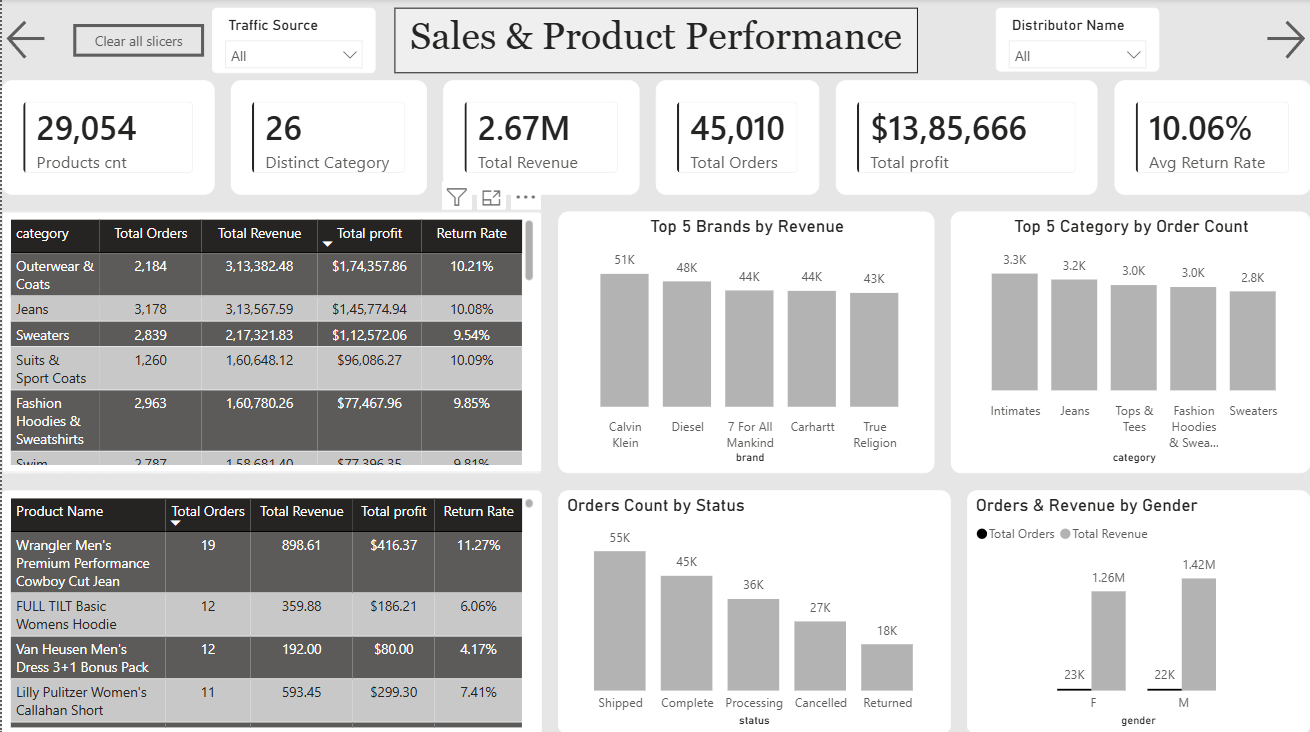

The page's visual inventory and layout, read from the dashboard file:
{"tool":"powerbi","page":{"name":"Sales & Product Performance ","canvas":[1280,720],"ordinal":2},"visuals":[{"type":"cardVisual","fields":{"Data":["Measure.Total Revenue"]},"box":[432,80,192,112],"z":0},{"type":"cardVisual","fields":{"Data":["Measure.Total profit"]},"box":[816,80,256,112],"z":1000},{"type":"cardVisual","fields":{"Data":["Stakeholder Overview Measure.Total Orders"]},"box":[640,80,160,112],"z":2000},{"type":"cardVisual","fields":{"Data":["Sales & Product Performance Overview.Distinct Category"]},"box":[224,80,192,112],"z":3000},{"type":"cardVisual","fields":{"Data":["Sales & Product Performance Overview.Products cnt"]},"box":[0,80,208,112],"z":4000},{"type":"cardVisual","fields":{"Data":["Stakeholder Overview Measure.Return Rate"]},"box":[1088,80,192,112],"z":5000},{"type":"tableEx","fields":{"Values":["public products.name","Stakeholder Overview Measure.Total Orders","Stakeholder Overview Measure.Total Revenue","Stakeholder Overview Measure.Total profit","Stakeholder Overview Measure.Return Rate"]},"box":[0,480,528,240],"z":6000},{"type":"textbox","box":[384,8,512,64],"z":7000},{"type":"tableEx","fields":{"Values":["public products.category","Stakeholder Overview Measure.Total Orders","Stakeholder Overview Measure.Total Revenue","Stakeholder Overview Measure.Total profit","Stakeholder Overview Measure.Return Rate"]},"box":[0,208,528,256],"z":8000},{"type":"clusteredColumnChart","title":"Top 5 Category by Order Count","fields":{"Category":["public products.category"],"Y":["Stakeholder Overview Measure.Total Orders"]},"box":[928,208,352,256],"z":9000},{"type":"clusteredColumnChart","title":"Top 5 Brands by Revenue","fields":{"Category":["public products.brand"],"Y":["Stakeholder Overview Measure.Total Revenue"]},"box":[544,208,368,256],"z":10000},{"type":"clusteredColumnChart","title":"Orders & Revenue by Gender","fields":{"Category":["public users.gender"],"Y":["z1 Stakeholder Overview Measure.Total Orders","z1 Stakeholder Overview Measure.Total Revenue"]},"box":[944,480,336,240],"z":11000},{"type":"clusteredColumnChart","title":"Orders Count by Status","fields":{"Category":["public order_items.status"],"Y":["CountNonNull(public order_items.order_items_id)"]},"box":[544,480,384,240],"z":12000},{"type":"actionButton","box":[1232,16,48,48],"z":13000},{"type":"actionButton","box":[0,16,96,48],"z":14000},{"type":"slicer","fields":{"Values":["public distribution_centers.name"]},"box":[972,8,160,62],"z":15000},{"type":"slicer","fields":{"Values":["public users.traffic_source"]},"box":[206,8,160,64],"z":16000},{"type":"actionButton","box":[70,24,128,32],"z":17000}]}

Visuals, with their boxes in screenshot pixels (x1, y1, x2, y2), scaled from the page's 1280x720 canvas onto the 1310x732 screenshot:
cardVisual - Measure.Total Revenue: bbox(442, 81, 639, 195)
cardVisual - Measure.Total profit: bbox(835, 81, 1097, 195)
cardVisual - Stakeholder Overview Measure.Total Orders: bbox(655, 81, 819, 195)
cardVisual - Sales & Product Performance Overview.Distinct Category: bbox(229, 81, 426, 195)
cardVisual - Sales & Product Performance Overview.Products cnt: bbox(0, 81, 213, 195)
cardVisual - Stakeholder Overview Measure.Return Rate: bbox(1114, 81, 1309, 195)
tableEx - public products.name x Stakeholder Overview Measure.Total Orders: bbox(0, 488, 540, 731)
textbox: bbox(393, 8, 917, 73)
tableEx - public products.category x Stakeholder Overview Measure.Total Orders: bbox(0, 211, 540, 472)
"Top 5 Category by Order Count" clusteredColumnChart: bbox(950, 211, 1309, 472)
"Top 5 Brands by Revenue" clusteredColumnChart: bbox(557, 211, 933, 472)
"Orders & Revenue by Gender" clusteredColumnChart: bbox(966, 488, 1309, 731)
"Orders Count by Status" clusteredColumnChart: bbox(557, 488, 950, 731)
actionButton: bbox(1261, 16, 1309, 65)
actionButton: bbox(0, 16, 98, 65)
slicer - public distribution_centers.name: bbox(995, 8, 1159, 71)
slicer - public users.traffic_source: bbox(211, 8, 375, 73)
actionButton: bbox(72, 24, 203, 57)
